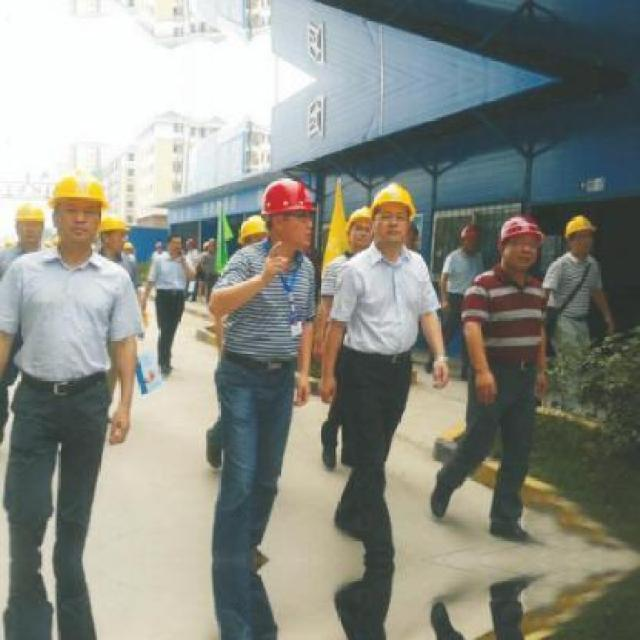helmet: (260, 174, 322, 221), (48, 168, 112, 209), (363, 178, 423, 218), (492, 208, 545, 250), (234, 209, 269, 246), (97, 212, 128, 238), (13, 202, 44, 226), (563, 214, 595, 237)
